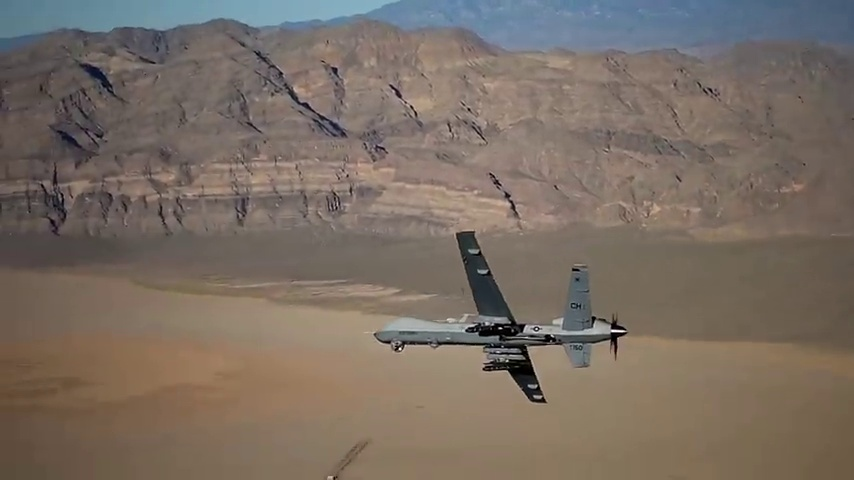military drone: (363, 230, 628, 403)
